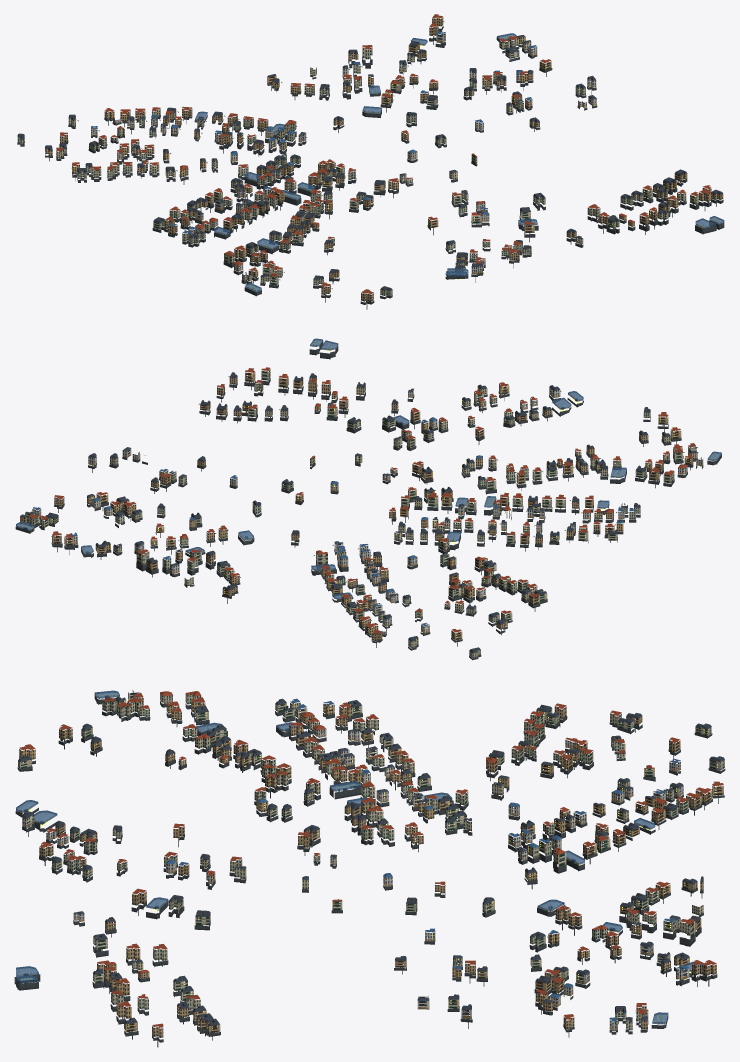
Rendered from osm_buildings_T_W01_N00_Q4.glb.
3 renders of one model, top to bottom at view 1: azimuth 30°, elevation 25°; view 2: azimuth 150°, elevation 25°; view 3: azimuth 270°, elevation 25°, orthographic. The views are drawn at different scales.
Parts seen in each view (by area): view 1: OSM_PBR_T_W01_N00_Q4_foundation, OSM_PBR_T_W01_N00_Q4_wall_cream_stucco, OSM_PBR_T_W01_N00_Q4_wall_french_ochre, OSM_PBR_T_W01_N00_Q4_roof_terracotta, OSM_PBR_T_W01_N00_Q4_roof_mansard_slate, OSM_PBR_T_W01_N00_Q4_wall_warm_white, OSM_PBR_T_W01_N00_Q4_greenhouse_blend, OSM_PBR_T_W01_N00_Q4_roof_mansard_deck, OSM_PBR_T_W01_N00_Q4_roof_mint_metal, OSM_PBR_T_W01_N00_Q4_trim_cornice, OSM_PBR_T_W01_N00_Q4_wall_pastel_sand, OSM_PBR_T_W01_N00_Q4_roof_alpine_blue; view 2: OSM_PBR_T_W01_N00_Q4_foundation, OSM_PBR_T_W01_N00_Q4_wall_cream_stucco, OSM_PBR_T_W01_N00_Q4_wall_french_ochre, OSM_PBR_T_W01_N00_Q4_roof_terracotta, OSM_PBR_T_W01_N00_Q4_roof_mansard_slate, OSM_PBR_T_W01_N00_Q4_wall_warm_white, OSM_PBR_T_W01_N00_Q4_greenhouse_blend, OSM_PBR_T_W01_N00_Q4_roof_mansard_deck, OSM_PBR_T_W01_N00_Q4_roof_mint_metal, OSM_PBR_T_W01_N00_Q4_balcony_railing, OSM_PBR_T_W01_N00_Q4_trim_cornice, OSM_PBR_T_W01_N00_Q4_wall_pastel_sand (+1 smaller); view 3: OSM_PBR_T_W01_N00_Q4_foundation, OSM_PBR_T_W01_N00_Q4_wall_cream_stucco, OSM_PBR_T_W01_N00_Q4_wall_french_ochre, OSM_PBR_T_W01_N00_Q4_roof_terracotta, OSM_PBR_T_W01_N00_Q4_roof_mansard_slate, OSM_PBR_T_W01_N00_Q4_wall_warm_white, OSM_PBR_T_W01_N00_Q4_greenhouse_blend, OSM_PBR_T_W01_N00_Q4_roof_mansard_deck, OSM_PBR_T_W01_N00_Q4_roof_mint_metal, OSM_PBR_T_W01_N00_Q4_trim_cornice, OSM_PBR_T_W01_N00_Q4_wall_pastel_sand, OSM_PBR_T_W01_N00_Q4_balcony_railing (+1 smaller).
Part boxes in pixels (x1=…): OSM_PBR_T_W01_N00_Q4_foundation: x1=17, y1=26, x2=724, y2=309; OSM_PBR_T_W01_N00_Q4_wall_cream_stucco: x1=17, y1=37, x2=698, y2=295; OSM_PBR_T_W01_N00_Q4_wall_french_ochre: x1=45, y1=17, x2=723, y2=301; OSM_PBR_T_W01_N00_Q4_roof_terracotta: x1=56, y1=14, x2=710, y2=293; OSM_PBR_T_W01_N00_Q4_roof_mansard_slate: x1=17, y1=35, x2=722, y2=290; OSM_PBR_T_W01_N00_Q4_wall_warm_white: x1=91, y1=33, x2=596, y2=281; OSM_PBR_T_W01_N00_Q4_greenhouse_blend: x1=195, y1=33, x2=724, y2=292; OSM_PBR_T_W01_N00_Q4_roof_mansard_deck: x1=18, y1=36, x2=723, y2=290; OSM_PBR_T_W01_N00_Q4_roof_mint_metal: x1=18, y1=23, x2=722, y2=299; OSM_PBR_T_W01_N00_Q4_trim_cornice: x1=18, y1=18, x2=721, y2=290; OSM_PBR_T_W01_N00_Q4_wall_pastel_sand: x1=113, y1=47, x2=596, y2=265; OSM_PBR_T_W01_N00_Q4_roof_alpine_blue: x1=91, y1=31, x2=536, y2=233; OSM_PBR_T_W01_N00_Q4_foundation: x1=15, y1=341, x2=721, y2=660; OSM_PBR_T_W01_N00_Q4_wall_cream_stucco: x1=25, y1=368, x2=697, y2=657; OSM_PBR_T_W01_N00_Q4_wall_french_ochre: x1=20, y1=370, x2=693, y2=640; OSM_PBR_T_W01_N00_Q4_roof_terracotta: x1=29, y1=367, x2=695, y2=633; OSM_PBR_T_W01_N00_Q4_roof_mansard_slate: x1=20, y1=373, x2=697, y2=652; OSM_PBR_T_W01_N00_Q4_wall_warm_white: x1=70, y1=387, x2=703, y2=633; OSM_PBR_T_W01_N00_Q4_greenhouse_blend: x1=16, y1=338, x2=721, y2=599; OSM_PBR_T_W01_N00_Q4_roof_mansard_deck: x1=17, y1=344, x2=716, y2=650; OSM_PBR_T_W01_N00_Q4_roof_mint_metal: x1=29, y1=376, x2=697, y2=656; OSM_PBR_T_W01_N00_Q4_balcony_railing: x1=35, y1=372, x2=690, y2=636; OSM_PBR_T_W01_N00_Q4_trim_cornice: x1=33, y1=371, x2=696, y2=652; OSM_PBR_T_W01_N00_Q4_wall_pastel_sand: x1=32, y1=390, x2=575, y2=634; OSM_PBR_T_W01_N00_Q4_foundation: x1=14, y1=694, x2=725, y2=1047; OSM_PBR_T_W01_N00_Q4_wall_cream_stucco: x1=18, y1=693, x2=724, y2=1030; OSM_PBR_T_W01_N00_Q4_wall_french_ochre: x1=19, y1=696, x2=723, y2=1037; OSM_PBR_T_W01_N00_Q4_roof_terracotta: x1=19, y1=691, x2=723, y2=1027; OSM_PBR_T_W01_N00_Q4_roof_mansard_slate: x1=18, y1=696, x2=724, y2=1025; OSM_PBR_T_W01_N00_Q4_wall_warm_white: x1=22, y1=690, x2=689, y2=1018; OSM_PBR_T_W01_N00_Q4_greenhouse_blend: x1=16, y1=690, x2=705, y2=1024; OSM_PBR_T_W01_N00_Q4_roof_mansard_deck: x1=16, y1=693, x2=722, y2=1023; OSM_PBR_T_W01_N00_Q4_roof_mint_metal: x1=18, y1=701, x2=723, y2=1035; OSM_PBR_T_W01_N00_Q4_trim_cornice: x1=18, y1=693, x2=721, y2=1032; OSM_PBR_T_W01_N00_Q4_wall_pastel_sand: x1=57, y1=731, x2=703, y2=1030; OSM_PBR_T_W01_N00_Q4_balcony_railing: x1=22, y1=697, x2=721, y2=1027.
Size of the model in its own units: 1003 by 110 by 996.
Materials: 18 (16 with a texture image).
